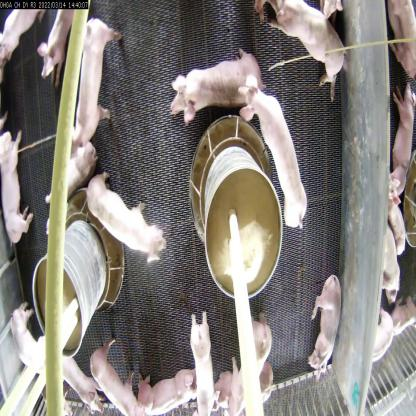Pig: (233, 70, 314, 239), (82, 161, 170, 264), (160, 42, 266, 126), (260, 0, 346, 98), (70, 16, 123, 154), (39, 135, 99, 226), (85, 331, 144, 415), (304, 274, 347, 389), (226, 312, 274, 415), (4, 298, 58, 388), (0, 126, 38, 249), (184, 310, 224, 416), (33, 5, 79, 89), (50, 350, 104, 414), (390, 73, 415, 202), (380, 169, 416, 258), (382, 0, 416, 88), (132, 370, 198, 414), (372, 216, 402, 308), (0, 10, 45, 64), (384, 297, 416, 344), (368, 302, 390, 370)
